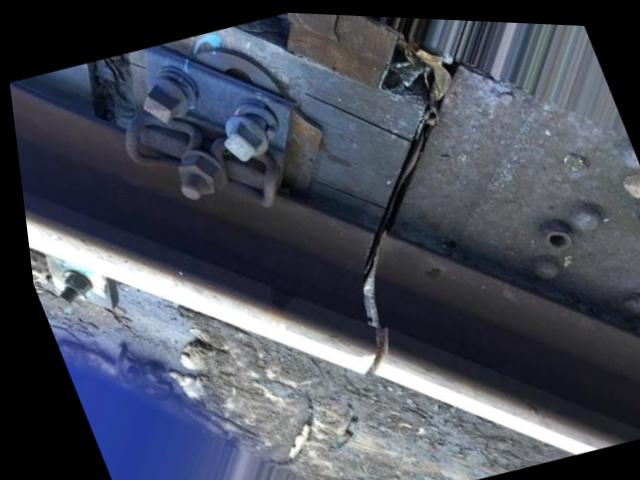person: (233, 174, 491, 413)
